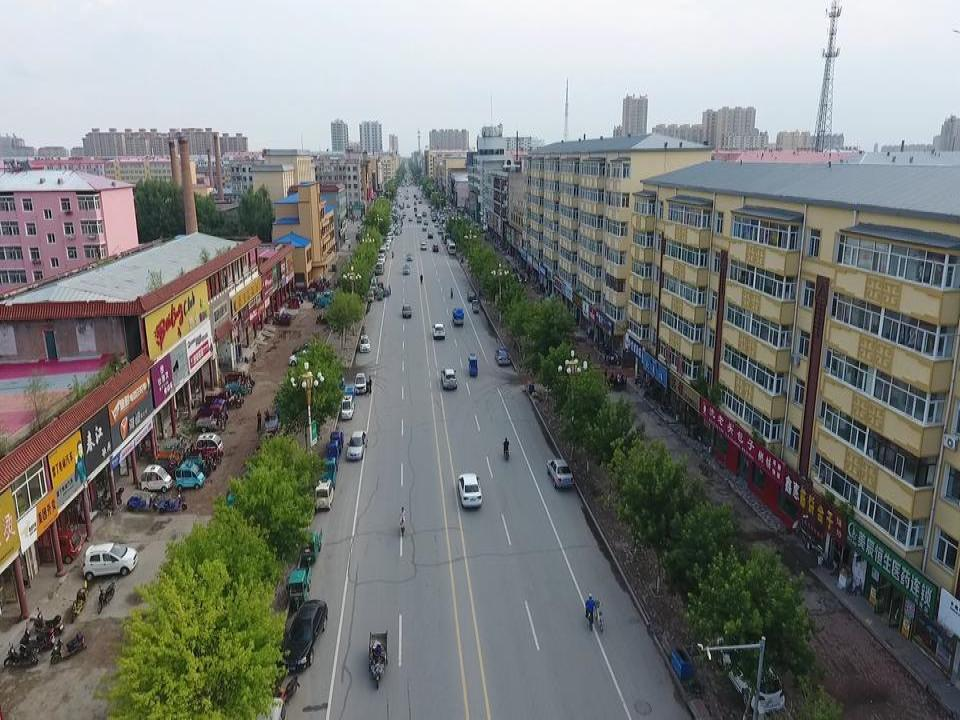bus: (446, 240, 456, 256)
car: (717, 632, 785, 708), (280, 600, 330, 669), (85, 544, 138, 579), (456, 471, 481, 508), (546, 457, 575, 487), (348, 431, 365, 461), (289, 349, 317, 367), (292, 340, 323, 356), (441, 368, 458, 391), (353, 372, 368, 393), (430, 324, 445, 340), (495, 348, 509, 365), (359, 336, 371, 352), (402, 301, 411, 319), (405, 251, 414, 261), (467, 292, 477, 301), (404, 264, 410, 275), (432, 243, 439, 252), (384, 235, 391, 244), (382, 243, 389, 250)
truck: (375, 260, 385, 273)
van: (377, 246, 386, 258), (376, 252, 385, 264)
